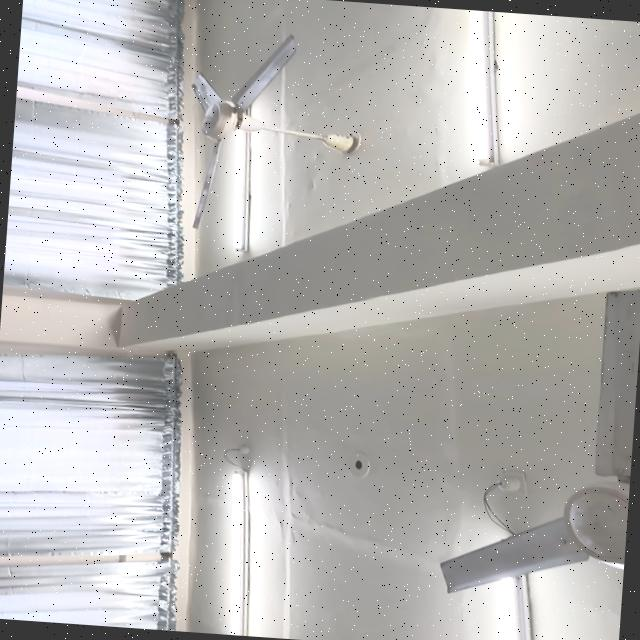Light: (469, 10, 496, 165), (229, 468, 248, 636), (231, 131, 248, 252), (498, 578, 516, 640)
